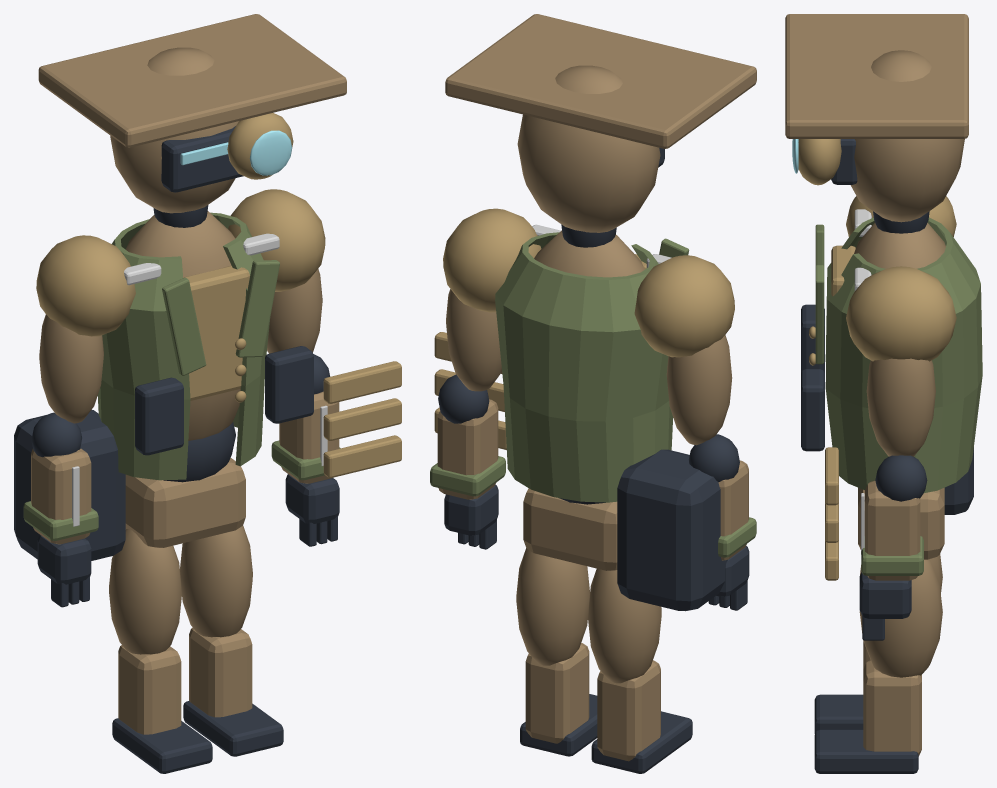
The model's file is picker.glb.
The picture shows the model from 3 angles, left to right: view 1: azimuth 30°, elevation 25°; view 2: azimuth 150°, elevation 25°; view 3: azimuth 270°, elevation 25°; orthographic projection.
Visible parts, largest first — view 1: Wide expedition brim, Curator expedition vest, Shoulder R, Pelvis, Thigh R, Candidate sample satchel, Thigh L, Sternum shield, Helmet, Articulated thorax, Shoulder L, Upper arm R (+24 smaller); view 2: Curator expedition vest, Wide expedition brim, Candidate sample satchel, Helmet, Shoulder R, Thigh L, Shoulder L, Pelvis, Thigh R, Upper arm R, Shin L, Shin R (+14 smaller); view 3: Wide expedition brim, Curator expedition vest, Helmet, Shoulder L, Upper arm L, Thigh L, Shin L, Bracer L, Foot L, Articulated thorax, Hand L, Elbow L (+17 smaller).
Part boxes in pixels (bbox=[...]): Wide expedition brim: bbox=[38, 14, 346, 147]; Curator expedition vest: bbox=[97, 212, 270, 480]; Shoulder R: bbox=[36, 235, 135, 336]; Pelvis: bbox=[125, 458, 245, 547]; Thigh R: bbox=[109, 529, 181, 654]; Candidate sample satchel: bbox=[14, 409, 125, 560]; Thigh L: bbox=[180, 525, 252, 637]; Sternum shield: bbox=[183, 265, 249, 400]; Helmet: bbox=[110, 47, 239, 213]; Articulated thorax: bbox=[126, 211, 240, 440]; Shoulder L: bbox=[228, 189, 325, 291]; Upper arm R: bbox=[39, 314, 103, 423]; Curator expedition vest: bbox=[495, 232, 673, 502]; Wide expedition brim: bbox=[445, 14, 756, 148]; Candidate sample satchel: bbox=[617, 449, 727, 611]; Helmet: bbox=[517, 65, 660, 232]; Shoulder R: bbox=[634, 255, 734, 357]; Thigh L: bbox=[516, 548, 589, 665]; Shoulder L: bbox=[443, 208, 541, 312]; Pelvis: bbox=[523, 488, 617, 570]; Thigh R: bbox=[588, 568, 661, 683]; Upper arm R: bbox=[666, 335, 732, 445]; Shin L: bbox=[525, 643, 589, 743]; Shin R: bbox=[597, 660, 660, 761]; Wide expedition brim: bbox=[785, 14, 968, 138]; Curator expedition vest: bbox=[825, 217, 982, 492]; Helmet: bbox=[850, 50, 964, 222]; Shoulder L: bbox=[846, 266, 956, 361]; Upper arm L: bbox=[866, 358, 935, 456]; Thigh L: bbox=[859, 559, 942, 677]; Shin L: bbox=[863, 660, 921, 756]; Bracer L: bbox=[865, 480, 920, 580]; Foot L: bbox=[814, 729, 918, 773]; Articulated thorax: bbox=[854, 223, 945, 268]; Hand L: bbox=[859, 572, 911, 618]; Elbow L: bbox=[875, 455, 927, 501].
Bounding box in the file's own units: 1.13 × 2.2 × 0.57.
